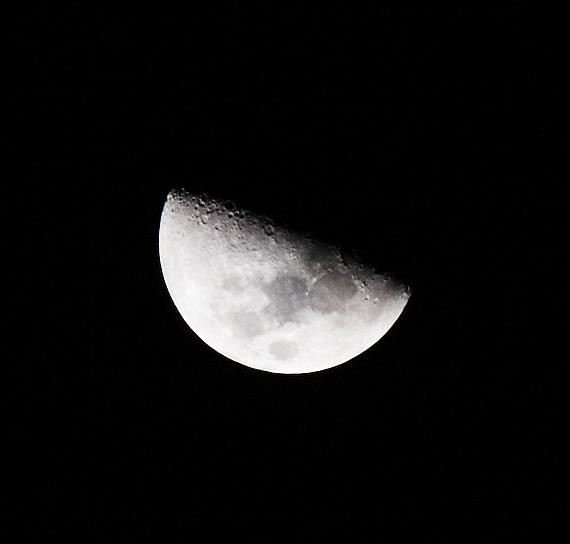crater: (298, 263, 364, 318), (257, 220, 280, 241), (194, 212, 211, 229)
